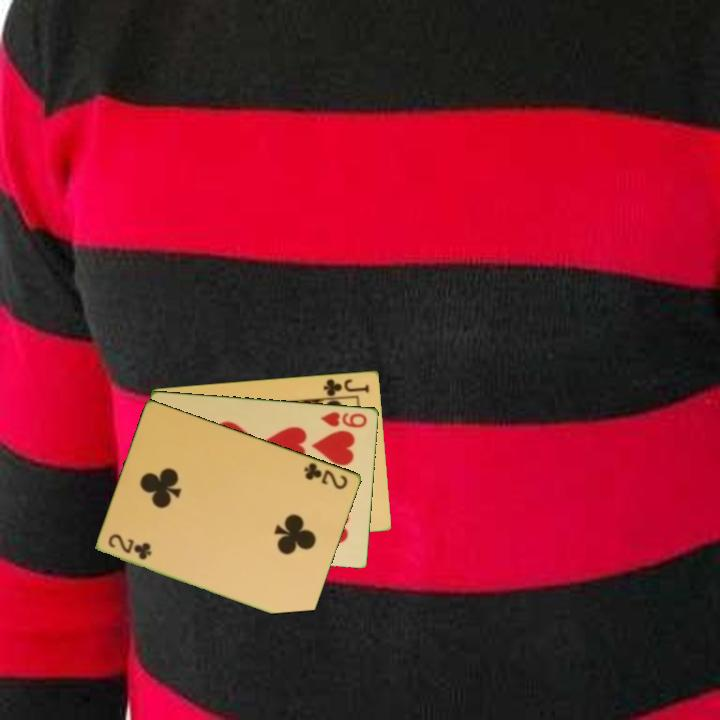2c: (301, 459, 351, 492), (105, 530, 155, 563)
9h: (317, 408, 370, 430)
Jc: (320, 375, 373, 399)
